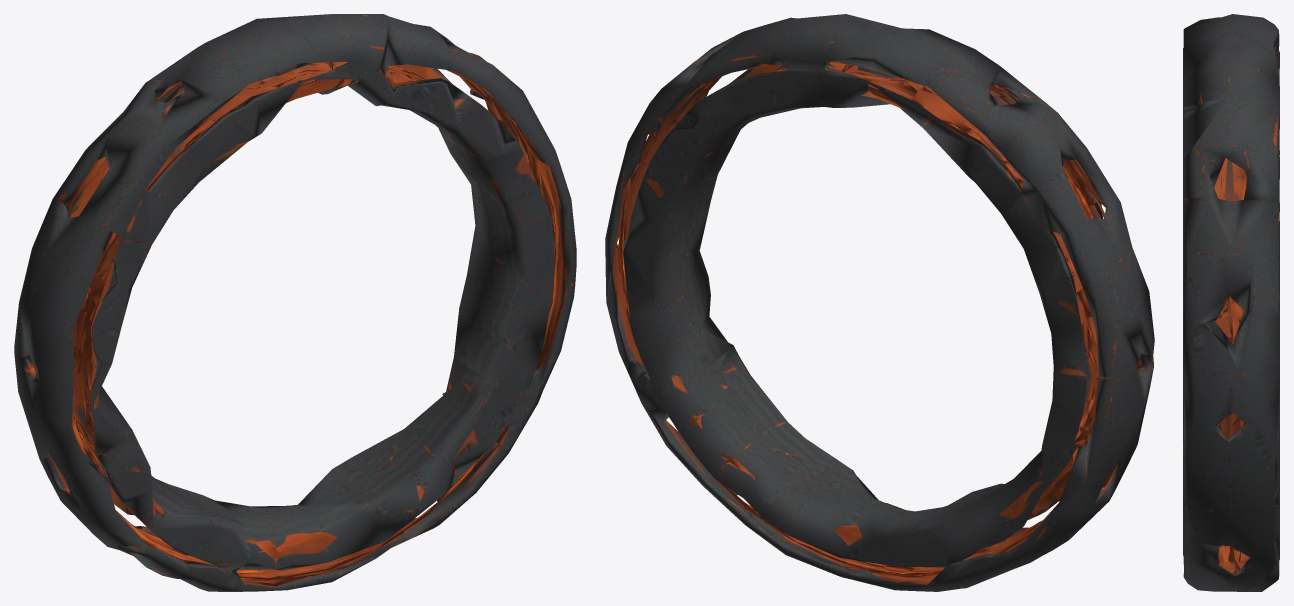
Rendered from ringclean.glb.
3 views of the same model, side by side, from view 1: azimuth 30°, elevation 25°; view 2: azimuth 150°, elevation 25°; view 3: azimuth 270°, elevation 25° (orthographic). The views are drawn at different scales.
Size of the model in its own units: 1.9 by 1.9 by 0.3137.
Materials: 1 (1 with a texture image).
